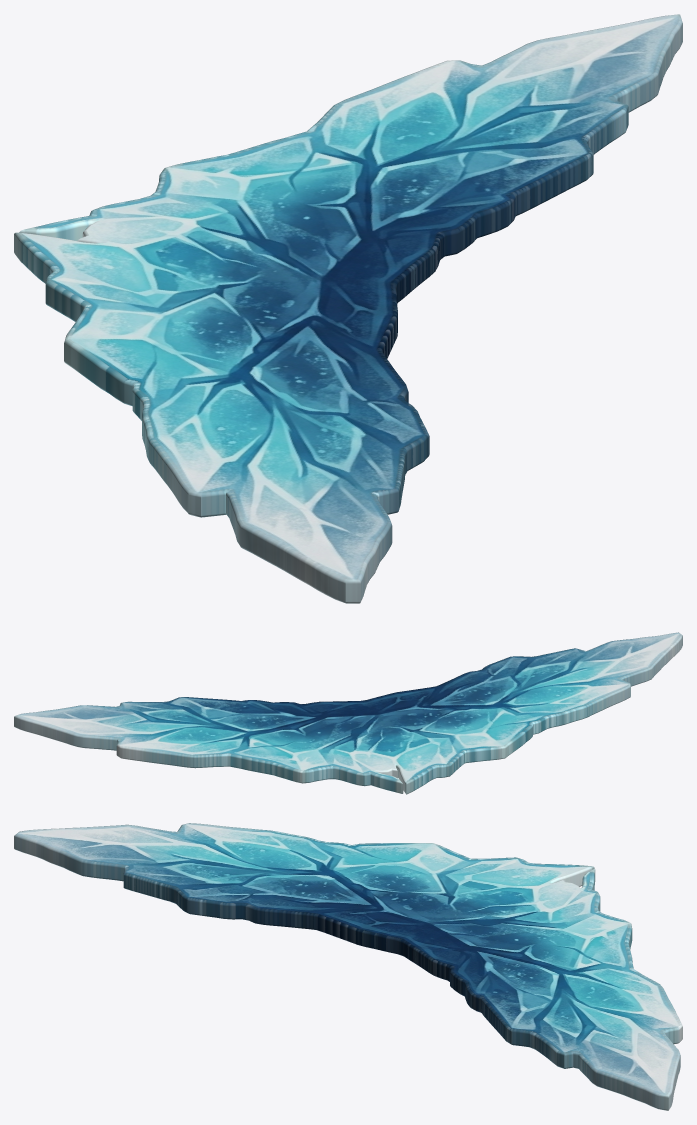
The model's file is Boomerang_19.fbx.
The picture shows the model from 3 angles, top to bottom: view 1: azimuth 30°, elevation 25°; view 2: azimuth 150°, elevation 25°; view 3: azimuth 270°, elevation 25°; orthographic projection. The views are drawn at different scales.
Parts seen in each view (by area): view 1: Boomerang_19; view 2: Boomerang_19; view 3: Boomerang_19.
Part boxes in pixels (<box>): Boomerang_19: <box>14,14,682,603</box>; Boomerang_19: <box>14,632,682,794</box>; Boomerang_19: <box>14,823,682,1110</box>.
Size of the model in its own units: 171 by 4.6 by 177.
1 material, 1 textured.
